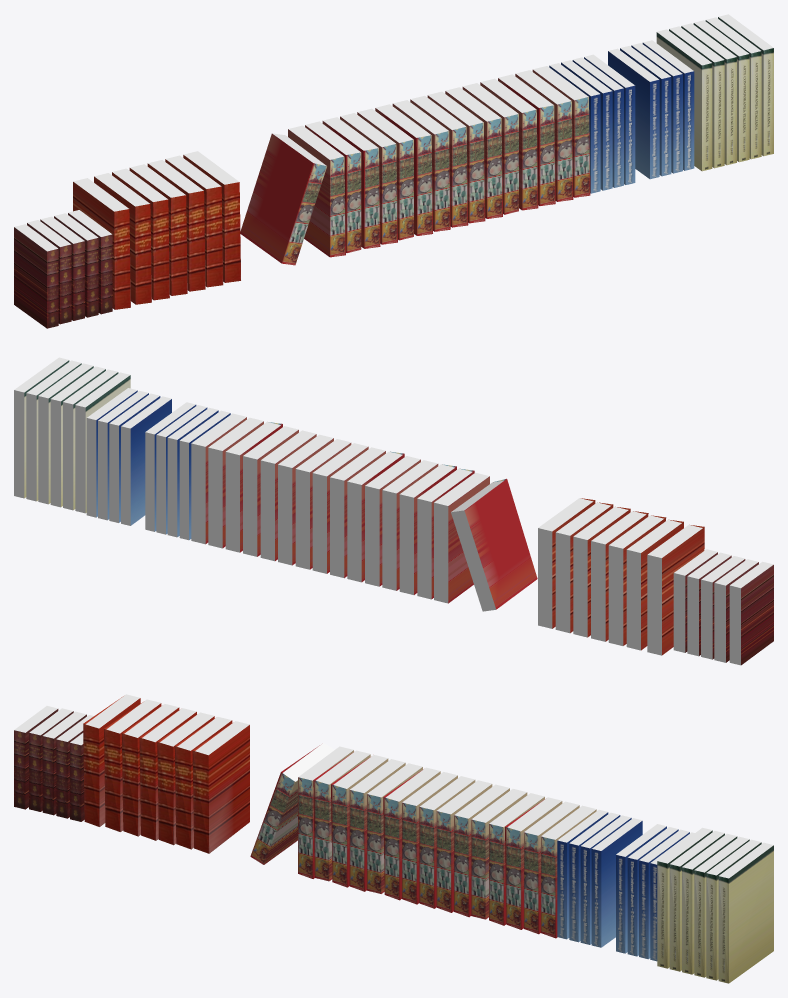
The model's file is books 3.fbx.
The picture shows the model from 3 angles, top to bottom: view 1: azimuth 30°, elevation 25°; view 2: azimuth 150°, elevation 25°; view 3: azimuth 330°, elevation 25°; orthographic projection.
Visible parts, largest first — view 1: books 3; view 2: books 3; view 3: books 3.
Part boxes in pixels (bbox=[...]): books 3: bbox=[14, 14, 773, 328]; books 3: bbox=[14, 357, 773, 665]; books 3: bbox=[14, 694, 773, 983].
Size of the model in its own units: 156 by 22.22 by 17.5.
